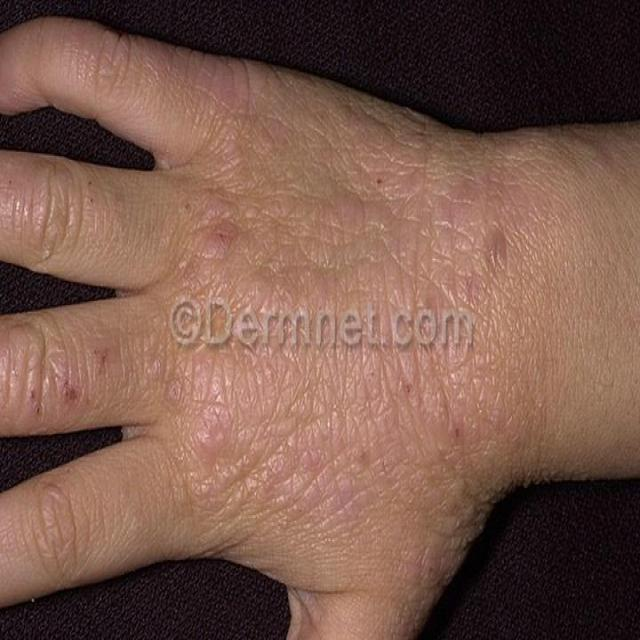liquenificacion 1: (169, 131, 518, 531)
